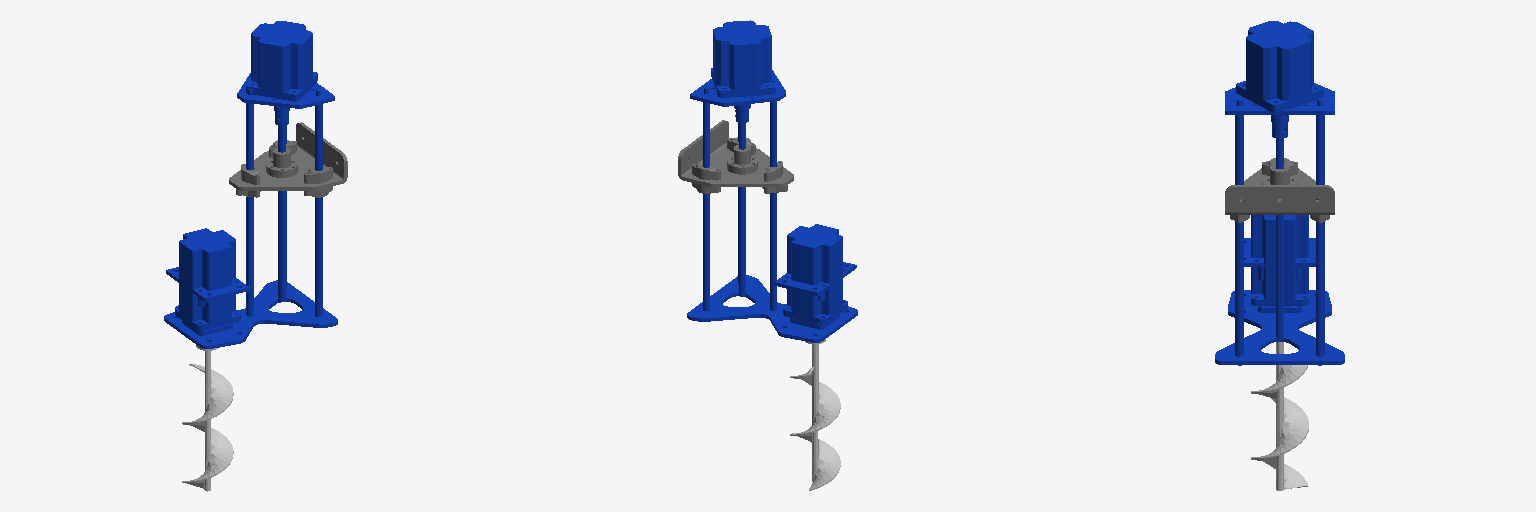
robot.urdf — sas:
<?xml version="1.0"?>
<robot name="sas">

    <link name="world"/>

    <joint name="world_to_base_joint" type="fixed">
        <parent link="world"/>
        <child link="base_link"/>
        <origin xyz="0 0 0" rpy="1.5708 0 0"/>
    </joint>

    <link name="base_link">
        <visual>
            <origin xyz="0 0 0" rpy="0 0 0"/>
            <geometry>
                <mesh filename="package://sas_description/meshes/base_link.stl" scale="0.01 0.01 0.01"/>
            </geometry>
            <material name="gray">
                <color rgba="0.5 0.5 0.5 1.0"/>
            </material>
        </visual>
    </link>

    <joint name="carriage_joint" type="prismatic">
        <parent link="base_link"/>
        <child link="carriage_link"/>
        <origin xyz="0 0 0" rpy="0 0 0"/>
        <axis xyz="0 1 0"/>
        <limit lower="-0.464" upper="2.033" effort="100.0" velocity="0.5"/>
    </joint>

    <link name="carriage_link">
        <visual>
            <origin xyz="0 0 0" rpy="0 0 0"/>
            <geometry>
                <mesh filename="package://sas_description/meshes/carriage_link.stl" scale="0.01 0.01 0.01"/>
            </geometry>
            <material name="blue">
                <color rgba="0.1 0.3 0.8 1.0"/>
            </material>
        </visual>
    </link>

    <joint name="drill_joint" type="fixed">
        <parent link="carriage_link"/>
        <child link="drill_link"/>
        <origin xyz="0 0 0" rpy="0 0 0"/>
    </joint>

    <link name="drill_link">
        <visual>
            <origin xyz="0 0 0" rpy="0 0 0"/>
            <geometry>
                <mesh filename="package://sas_description/meshes/drill_link.stl" scale="0.01 0.01 0.01"/>
            </geometry>
            <material name="silver">
                <color rgba="0.8 0.8 0.8 1.0"/>
            </material>
        </visual>
    </link>

</robot>

--- What the picture shows (computed from the rendered views, not written in the file) ---
Views: 3 orthographic renders of the robot side by side, from view 1: azimuth 30°, elevation 25°; view 2: azimuth 150°, elevation 25°; view 3: azimuth 270°, elevation 25°.
Robot: sas — 4 links, 3 joints (1 prismatic, 2 fixed); root link world; default pose: all joints at 0.
Links seen in each view (by area): view 1: carriage_link, base_link, drill_link; view 2: carriage_link, base_link, drill_link; view 3: carriage_link, base_link, drill_link.
Link boxes in pixels (left/top/right/bottom): carriage_link: left=164, top=21, right=337, bottom=348; base_link: left=229, top=122, right=347, bottom=197; drill_link: left=182, top=345, right=233, bottom=491; carriage_link: left=687, top=20, right=857, bottom=342; base_link: left=678, top=120, right=793, bottom=193; drill_link: left=790, top=339, right=840, bottom=490; carriage_link: left=1215, top=21, right=1344, bottom=365; base_link: left=1225, top=158, right=1334, bottom=222; drill_link: left=1251, top=342, right=1308, bottom=490.
Size in the robot's own frame: 2.5 by 1.78 by 7.46 metres.
Meshes: 3 distinct files referenced, 3 mesh visuals loaded (3 binary STL).
